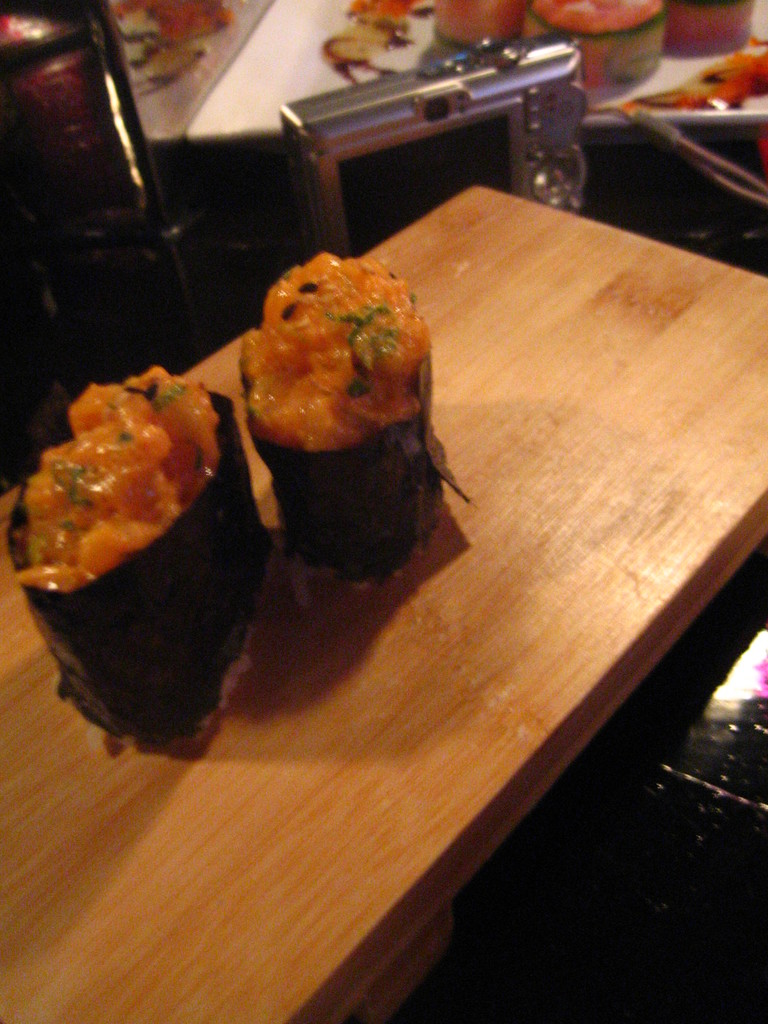sushi: (19, 358, 268, 735), (239, 255, 444, 584)
